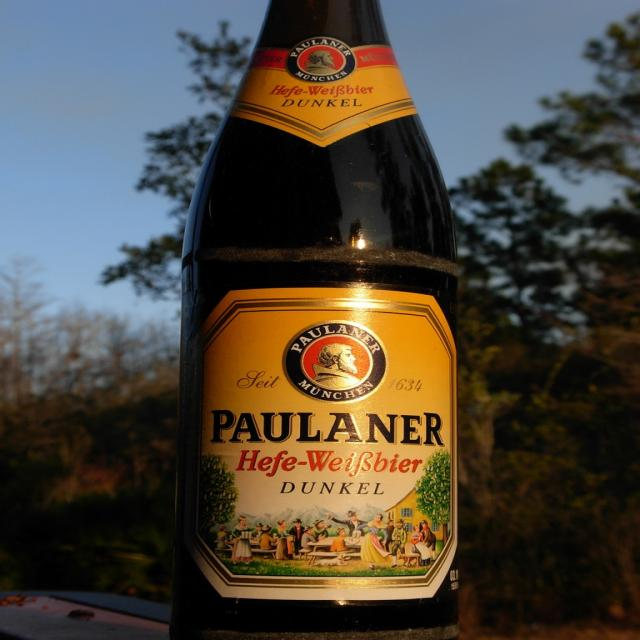paulaner: (283, 322, 388, 405), (286, 38, 357, 84)
